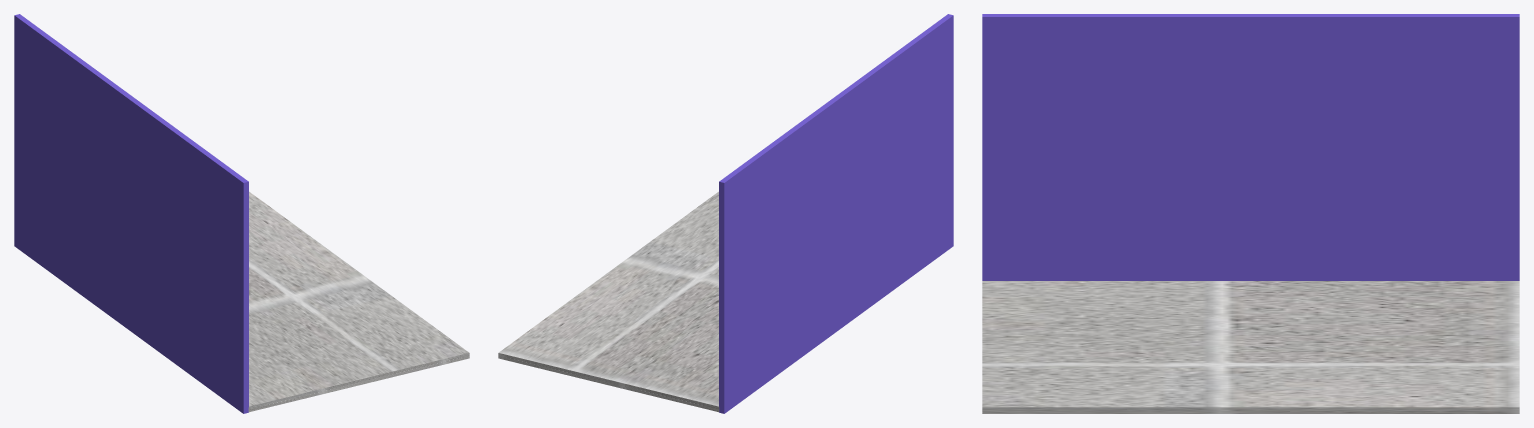
File: background.glb
3 views of the same model, side by side, from view 1: azimuth 30°, elevation 25°; view 2: azimuth 150°, elevation 25°; view 3: azimuth 270°, elevation 25° (orthographic). The views are drawn at different scales.
Visible parts, largest first — view 1: Cube.001, Cube; view 2: Cube.001, Cube; view 3: Cube.001, Cube.
Boxes of the visible parts, left/top/right/bottom form: Cube.001: left=14, top=14, right=248, bottom=413; Cube: left=248, top=191, right=469, bottom=412; Cube.001: left=719, top=14, right=953, bottom=413; Cube: left=498, top=191, right=719, bottom=412; Cube.001: left=982, top=14, right=1519, bottom=280; Cube: left=982, top=281, right=1519, bottom=413.
Bounding box in the file's own units: 6.21 × 6.06 × 10.9.
Materials: 2 (1 with a texture image).
